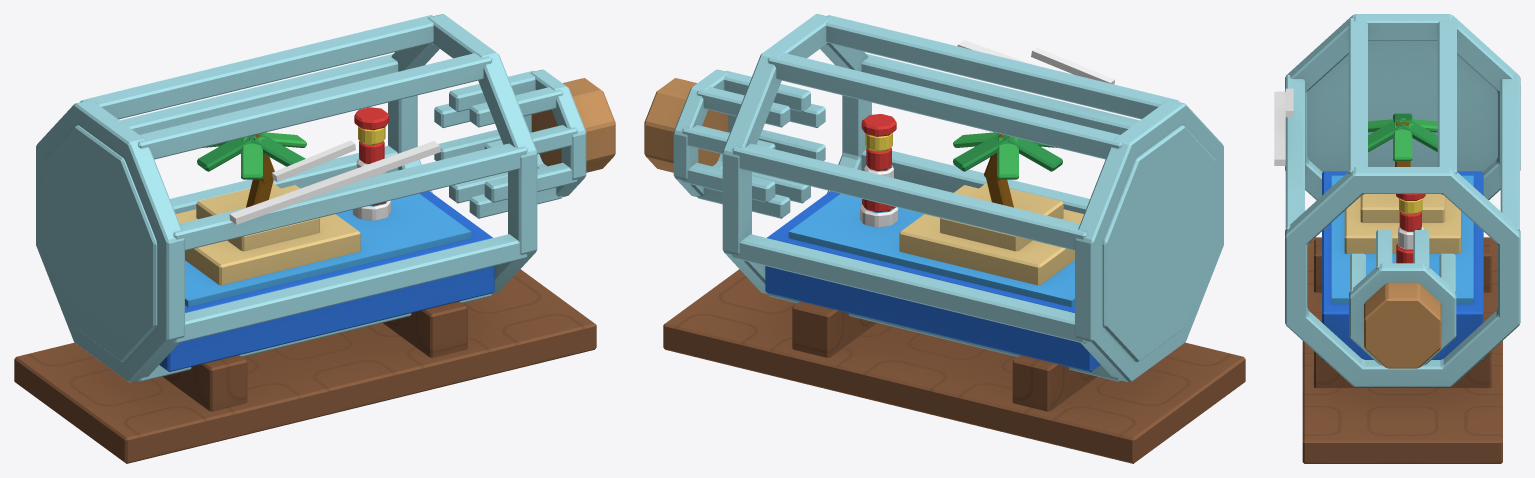
The model's file is WorldInBottle.fbx.
The picture shows the model from 3 angles, left to right: view 1: azimuth 30°, elevation 25°; view 2: azimuth 150°, elevation 25°; view 3: azimuth 270°, elevation 25°; orthographic projection. The views are drawn at different scales.
Parts seen in each view (by area): view 1: Art_WorldInBottle; view 2: Art_WorldInBottle; view 3: Art_WorldInBottle.
Boxes of the visible parts, left/top/right/bottom form: Art_WorldInBottle: left=14, top=14, right=615, bottom=463; Art_WorldInBottle: left=644, top=14, right=1245, bottom=463; Art_WorldInBottle: left=1274, top=14, right=1520, bottom=463.
Size of the model in its own units: 3.34 by 1.78 by 1.52.
